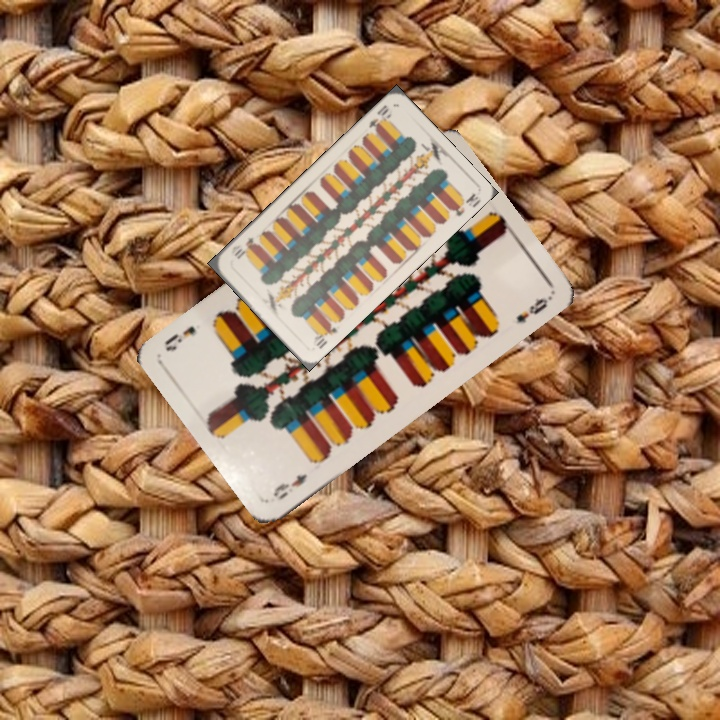E10: (309, 319, 340, 352), (365, 101, 394, 134)
E9: (269, 469, 310, 502)
